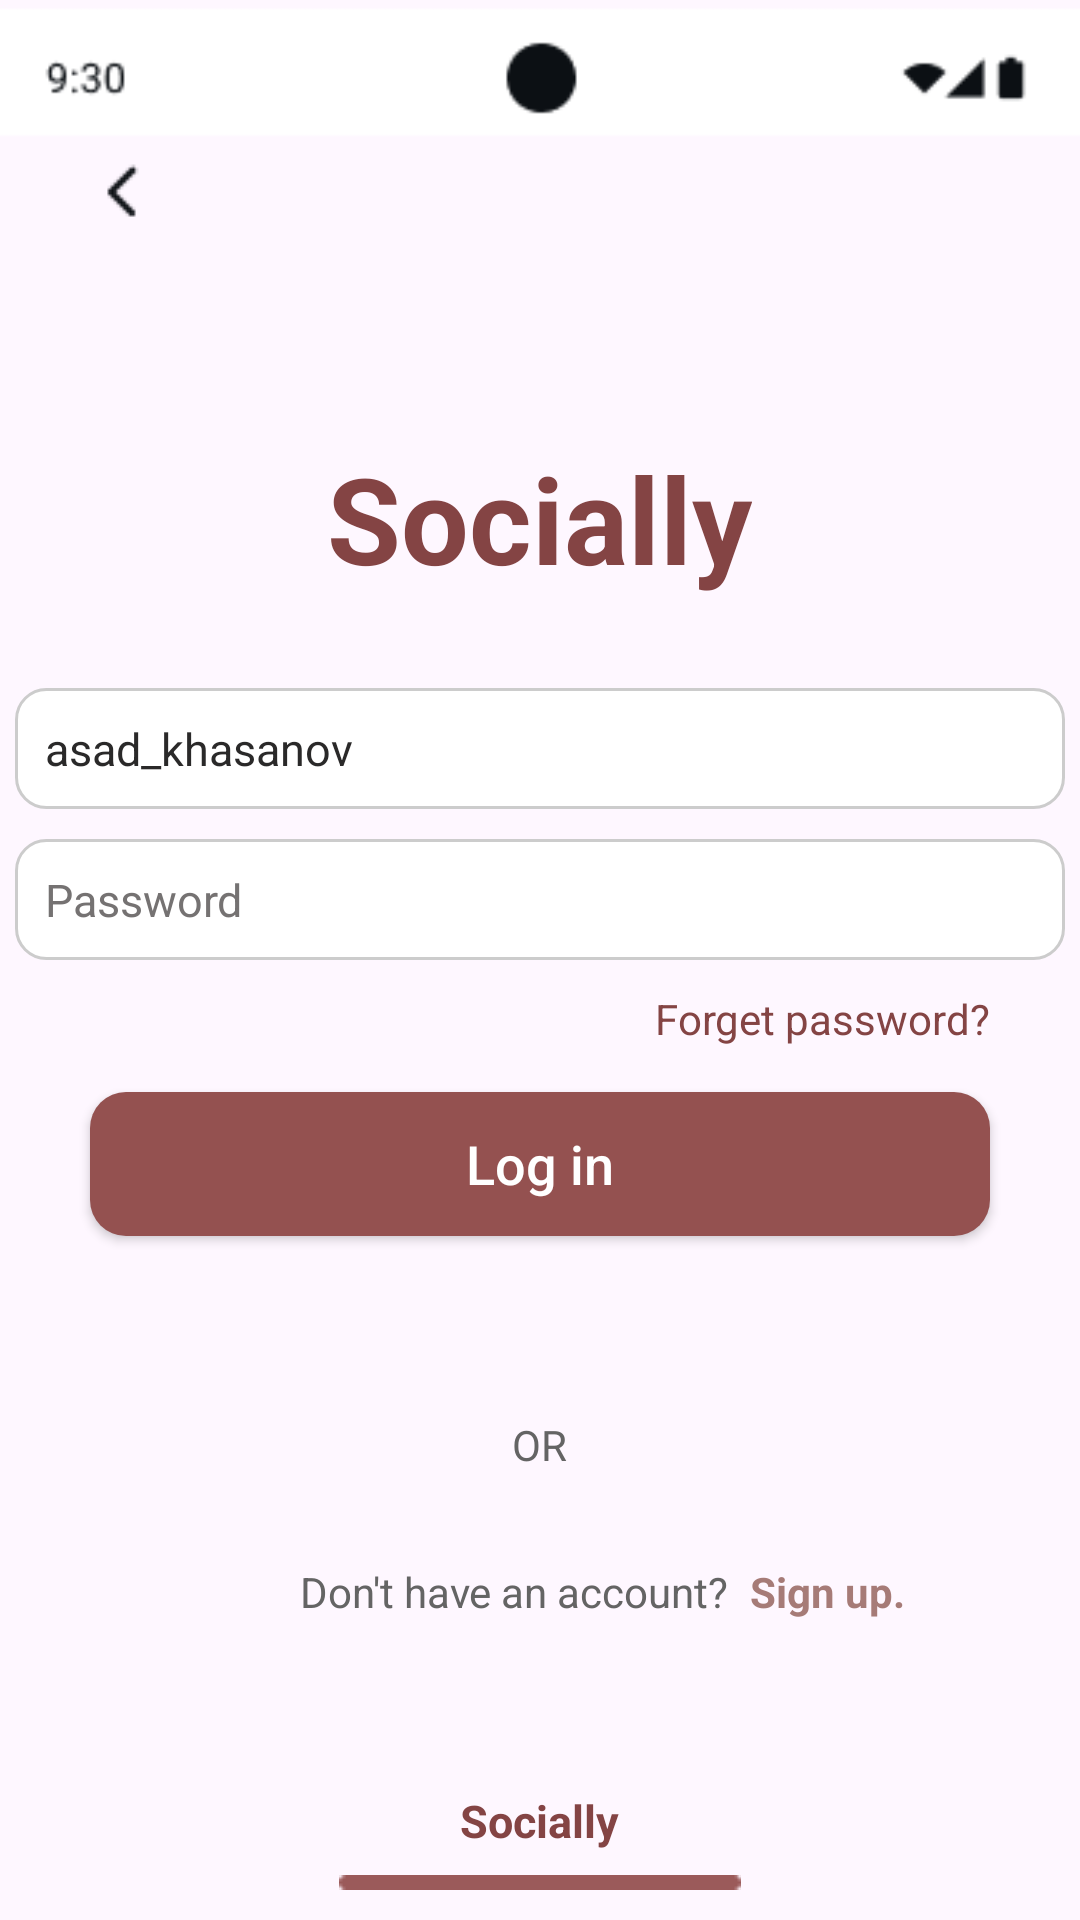

Icon click points for this 1080w x 1920h phone screenshot, format (x,y):
left: (122,191)
